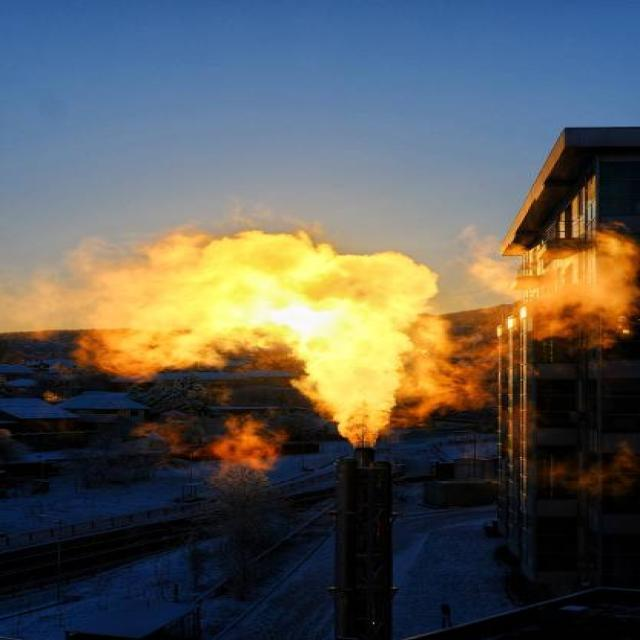Smoke: (38, 243, 438, 450), (465, 236, 640, 363)
